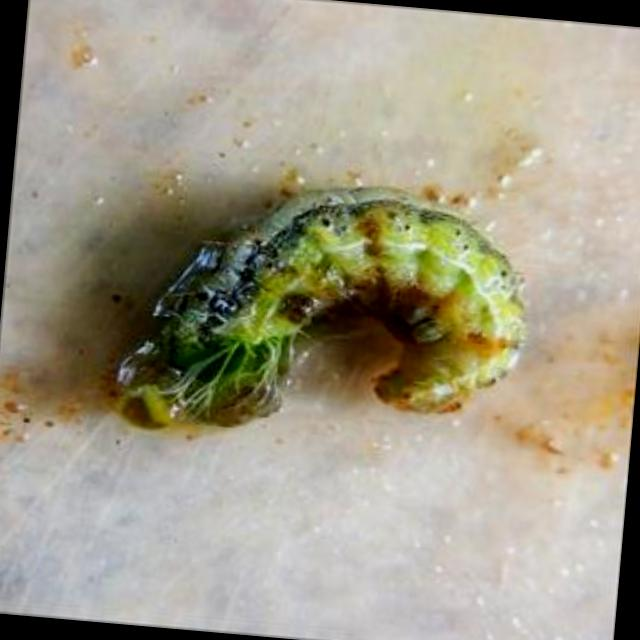Cotton bollworm: (94, 152, 554, 478)
